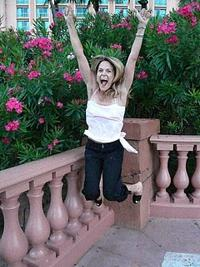person: (63, 7, 149, 207)
